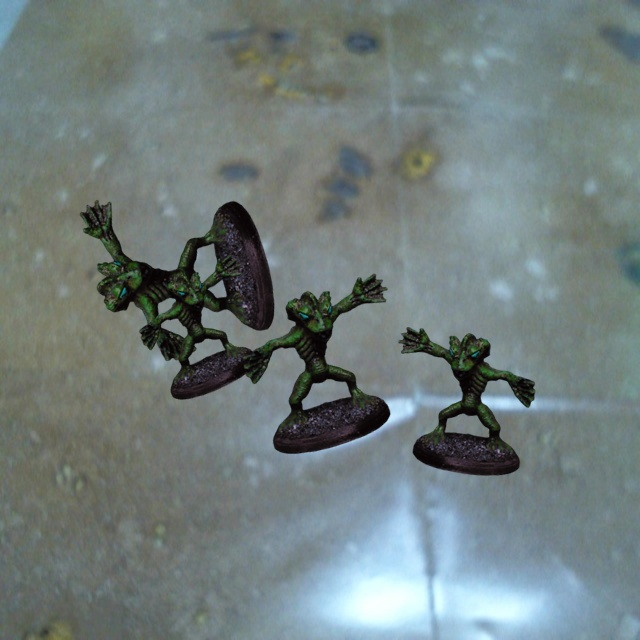pieza_juego: (80, 200, 274, 360), (243, 274, 390, 453), (398, 327, 534, 475), (139, 254, 256, 399)
